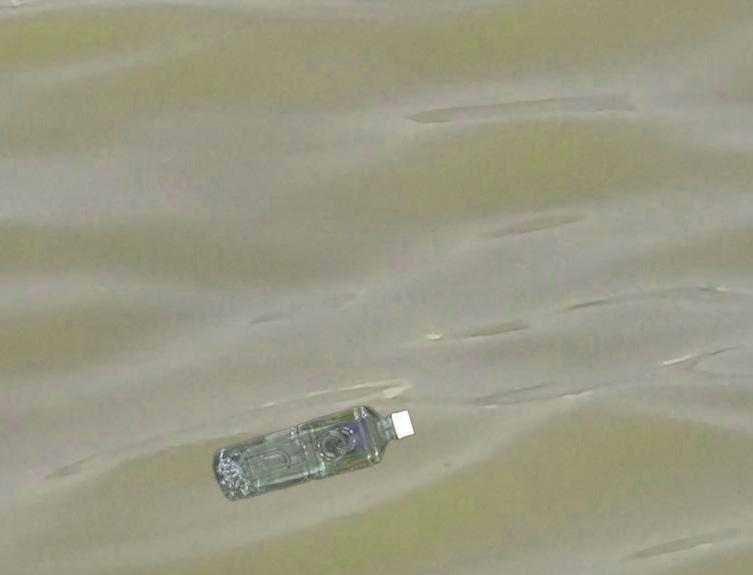Plastic: (210, 400, 420, 506)
